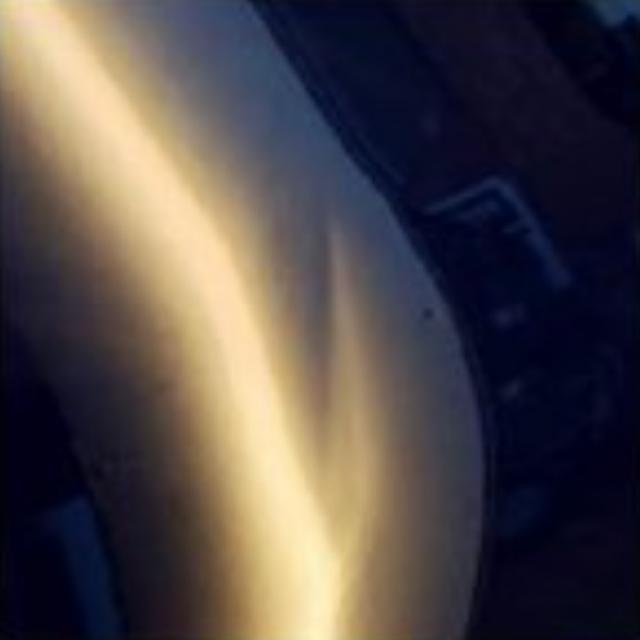dents: (280, 208, 419, 520)
